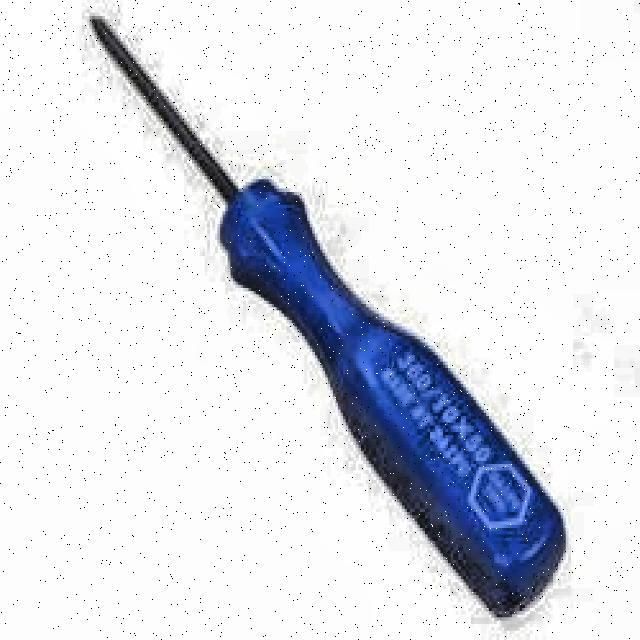screwdriver: (90, 18, 566, 618)
